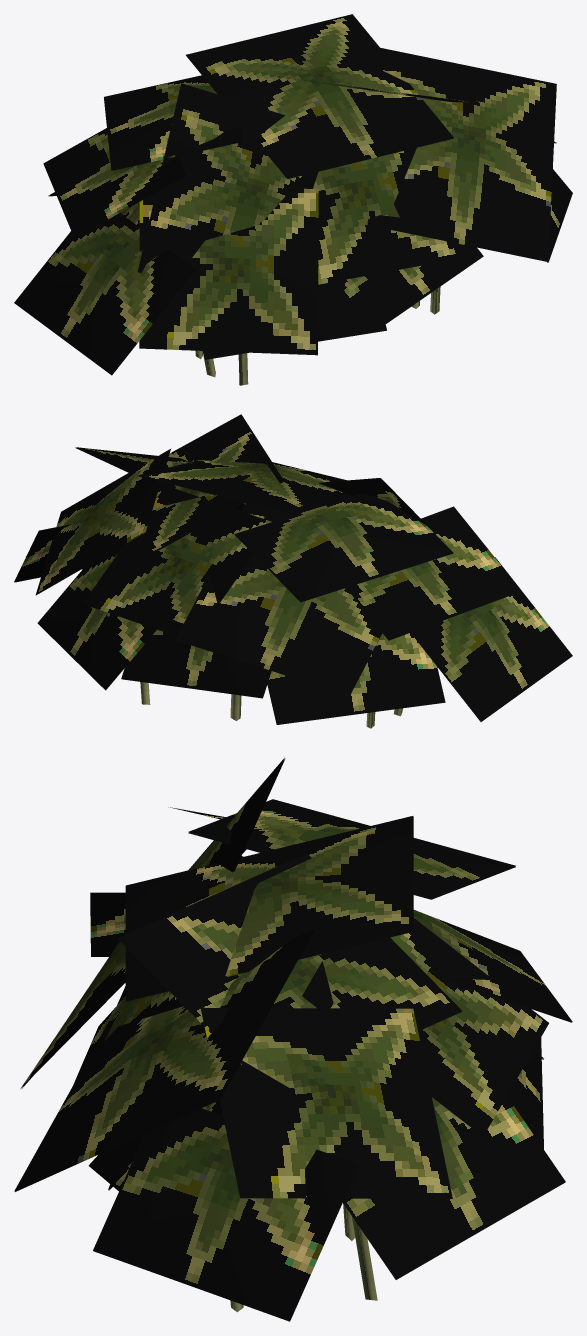
Rendered from plants_shrub02.gltf.
3 renders of one model, top to bottom at view 1: azimuth 30°, elevation 25°; view 2: azimuth 150°, elevation 25°; view 3: azimuth 270°, elevation 25°, orthographic. The views are drawn at different scales.
Visible parts, largest first — view 1: um_plants_shrub02_model_plants_shrub02_modelShape:plants_shr; view 2: um_plants_shrub02_model_plants_shrub02_modelShape:plants_shr; view 3: um_plants_shrub02_model_plants_shrub02_modelShape:plants_shr.
Boxes of the visible parts, x1=… form: um_plants_shrub02_model_plants_shrub02_modelShape:plants_shr: x1=14, y1=14, x2=572, y2=385; um_plants_shrub02_model_plants_shrub02_modelShape:plants_shr: x1=14, y1=414, x2=572, y2=728; um_plants_shrub02_model_plants_shrub02_modelShape:plants_shr: x1=14, y1=757, x2=572, y2=1321.
Bounding box in the file's own units: 1.52 × 0.7517 × 0.9798.
Materials: 1 (1 with a texture image).
